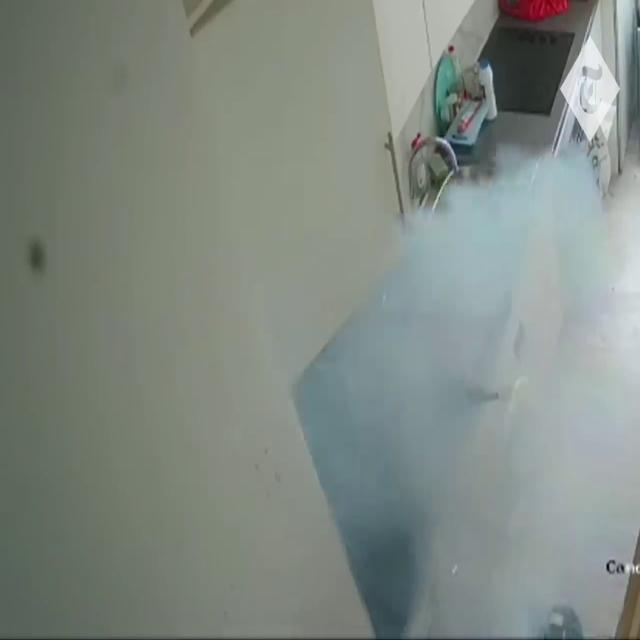Smoke: (317, 106, 640, 633)
